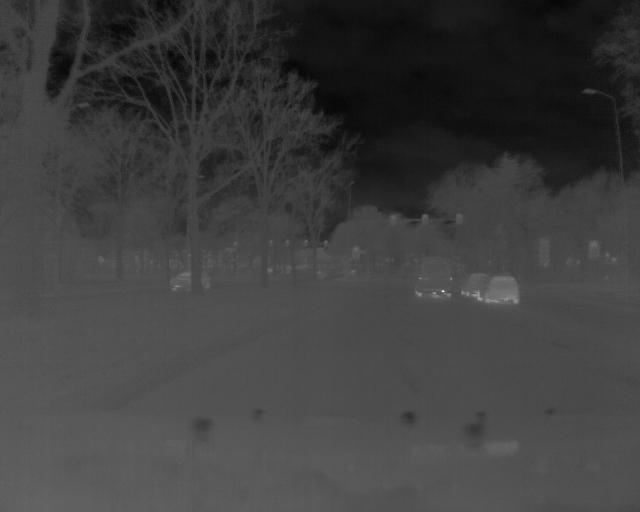car: (412, 258, 454, 300), (167, 267, 214, 297), (476, 276, 519, 308)
